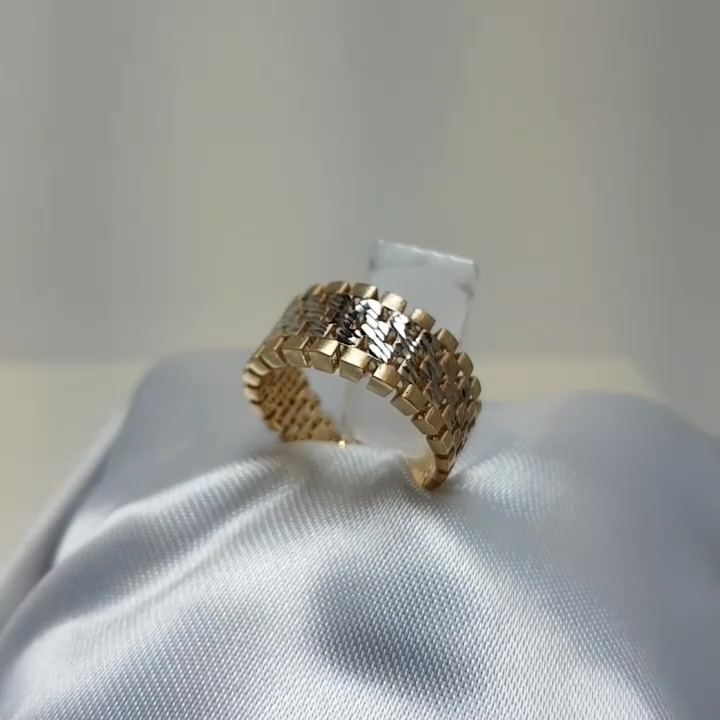Ring 1: (213, 246, 491, 500)
